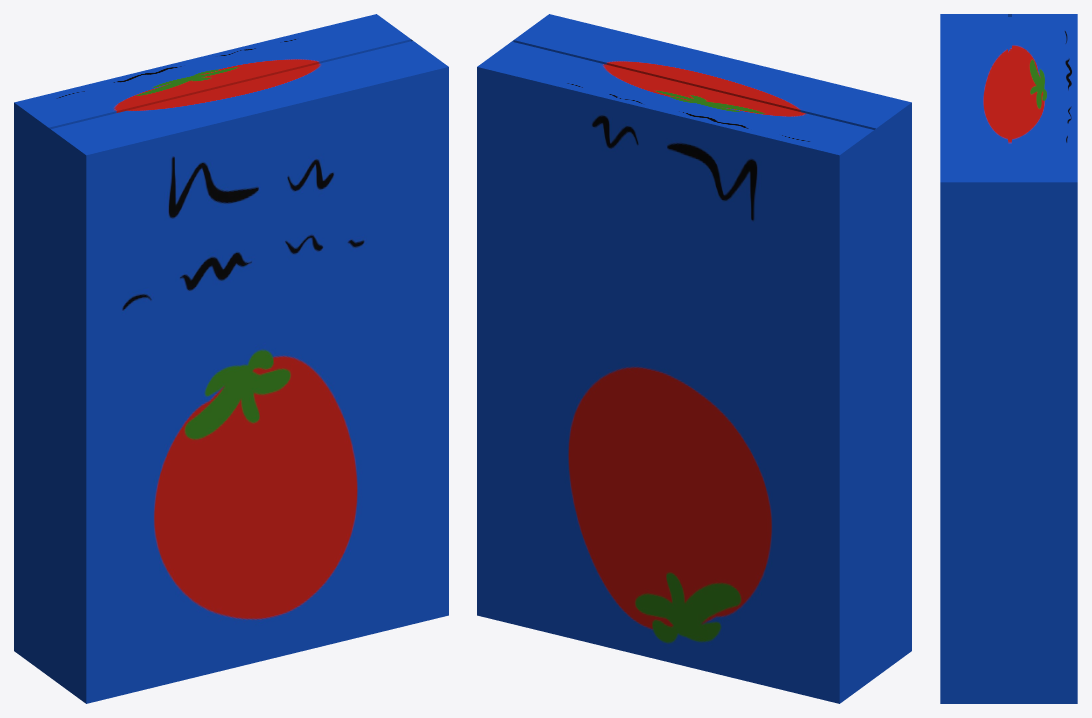
The model's file is carton1.fbx.
3 renders of one model, left to right at view 1: azimuth 30°, elevation 25°; view 2: azimuth 150°, elevation 25°; view 3: azimuth 270°, elevation 25°, orthographic. The views are drawn at different scales.
Visible parts, largest first — view 1: pCube15; view 2: pCube15; view 3: pCube15.
Boxes of the visible parts, box(x1,y1,x2,y2) form: pCube15: box(14, 14, 448, 703); pCube15: box(477, 14, 911, 703); pCube15: box(940, 14, 1077, 703).
Size of the model in its own units: 1.49 by 2.15 by 0.5143.
1 material, 1 textured.
